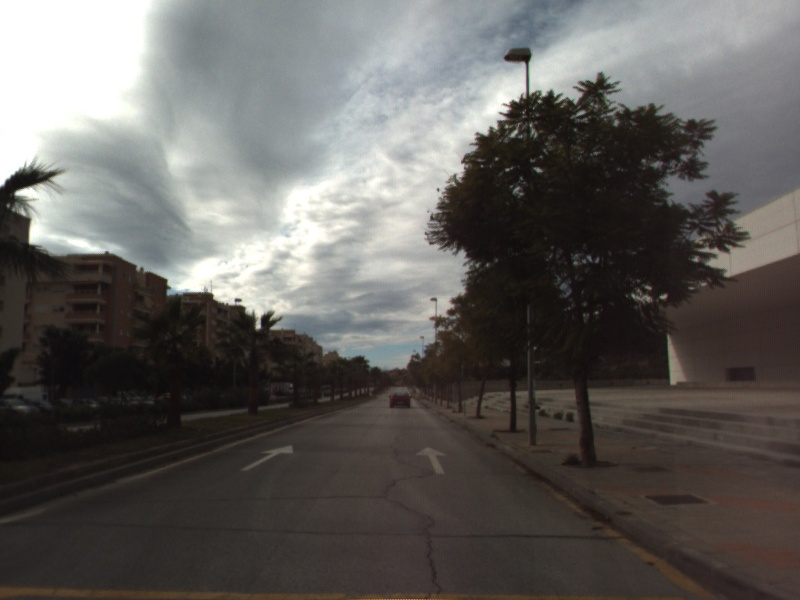STRAIGHT: (238, 443, 295, 473), (414, 445, 449, 476)
